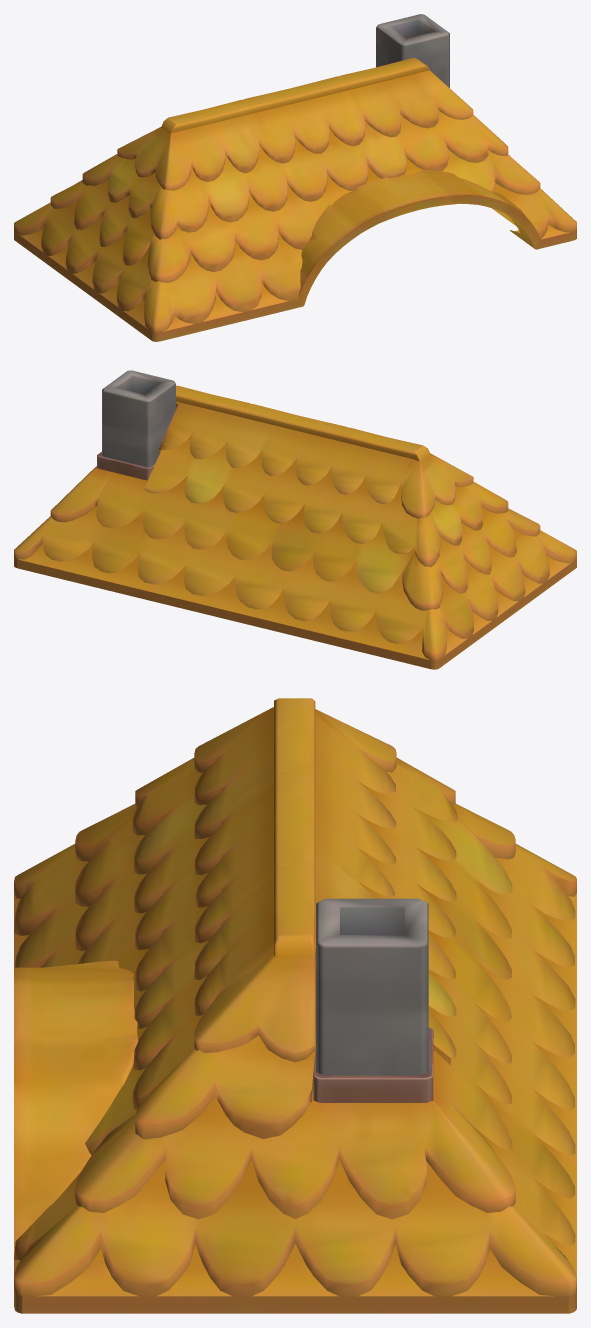
File: roof-nb-woodtile.glb
3 views of the same model, one above another, from view 1: azimuth 30°, elevation 25°; view 2: azimuth 150°, elevation 25°; view 3: azimuth 270°, elevation 25° (orthographic). The views are drawn at different scales.
Size of the model in its own units: 40.04 by 14.62 by 23.3.
1 material, 1 textured.
